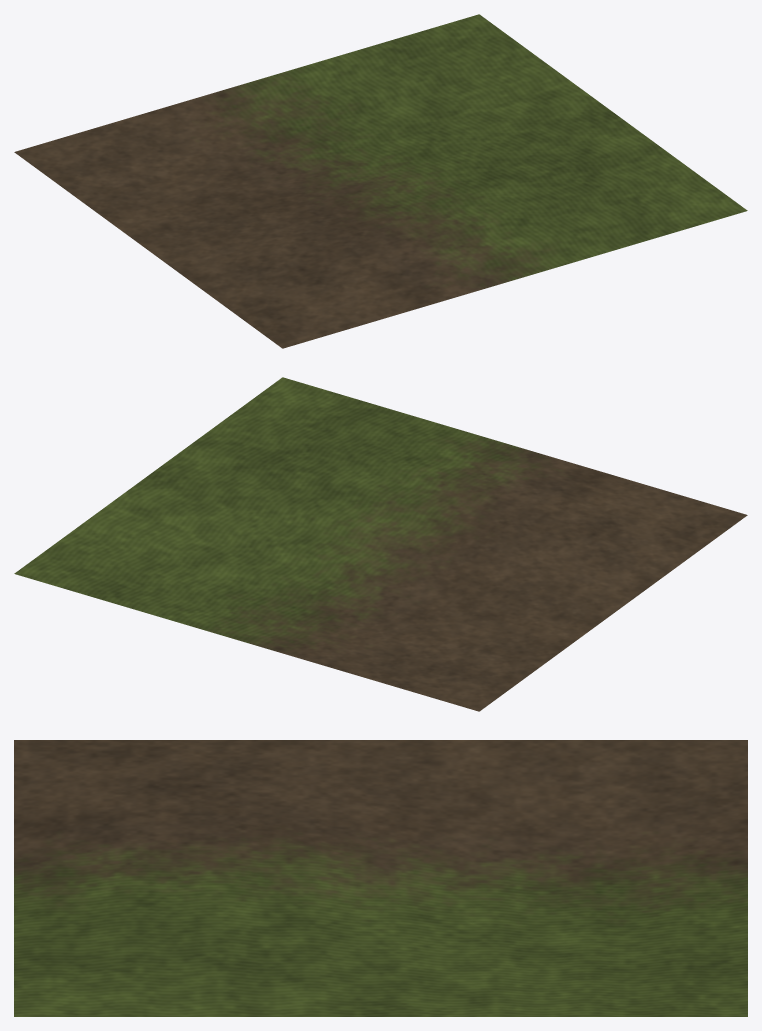
File: soil_grass_slope_lod0.glb
3 views of the same model, one above another, from view 1: azimuth 30°, elevation 25°; view 2: azimuth 150°, elevation 25°; view 3: azimuth 270°, elevation 25° (orthographic). The views are drawn at different scales.
Visible parts, largest first — view 1: soil_grass_slope_lod0; view 2: soil_grass_slope_lod0; view 3: soil_grass_slope_lod0.
Boxes of the visible parts, <box> form: soil_grass_slope_lod0: <box>14,14,747,348</box>; soil_grass_slope_lod0: <box>14,377,747,711</box>; soil_grass_slope_lod0: <box>14,740,747,1016</box>.
Bounding box in the file's own units: 2 × 0.1 × 2.
Materials: 1 (1 with a texture image).
